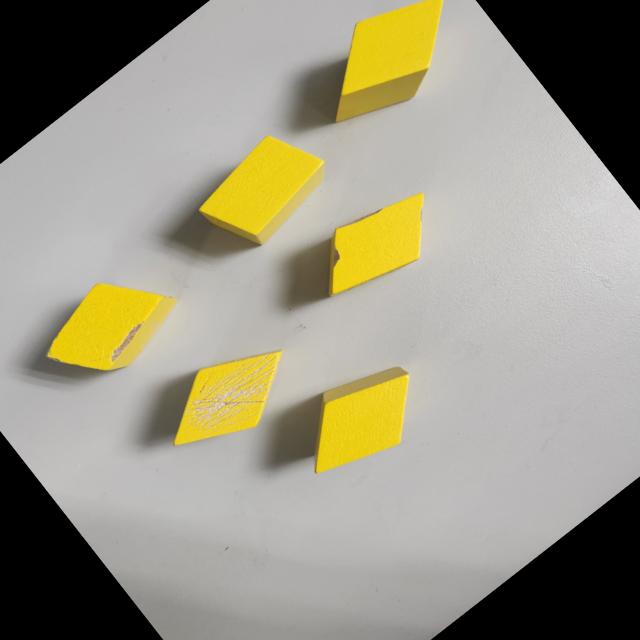broken: (26, 250, 192, 406), (145, 320, 311, 474), (296, 172, 455, 320)
yellow: (290, 0, 482, 148), (278, 342, 441, 498), (186, 117, 344, 265)
